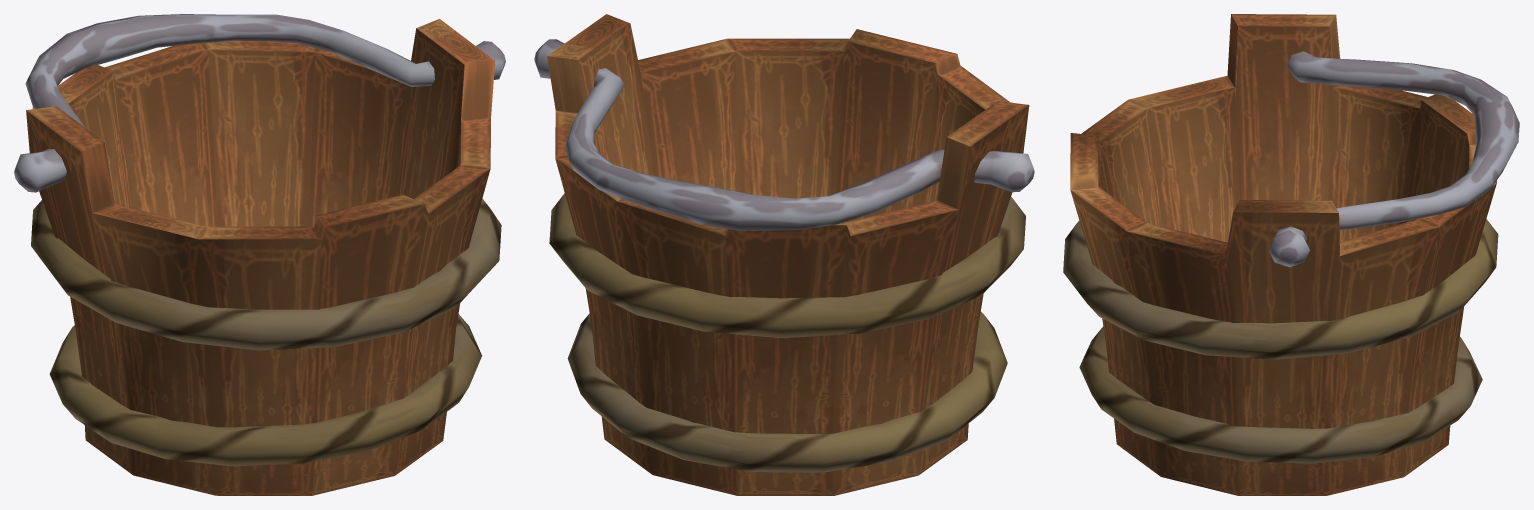
File: Bucket_Wooden_1.gltf
3 views of the same model, side by side, from view 1: azimuth 30°, elevation 25°; view 2: azimuth 150°, elevation 25°; view 3: azimuth 270°, elevation 25° (orthographic). The views are drawn at different scales.
Parts seen in each view (by area): view 1: Bucket_Wooden_1; view 2: Bucket_Wooden_1; view 3: Bucket_Wooden_1.
Boxes of the visible parts, x1,y1,x2,y2 form: Bucket_Wooden_1: (14, 14, 505, 495); Bucket_Wooden_1: (534, 14, 1034, 495); Bucket_Wooden_1: (1063, 14, 1519, 495).
Size of the model in its own units: 0.4339 by 0.2928 by 0.3835.
2 materials, 2 textured.
